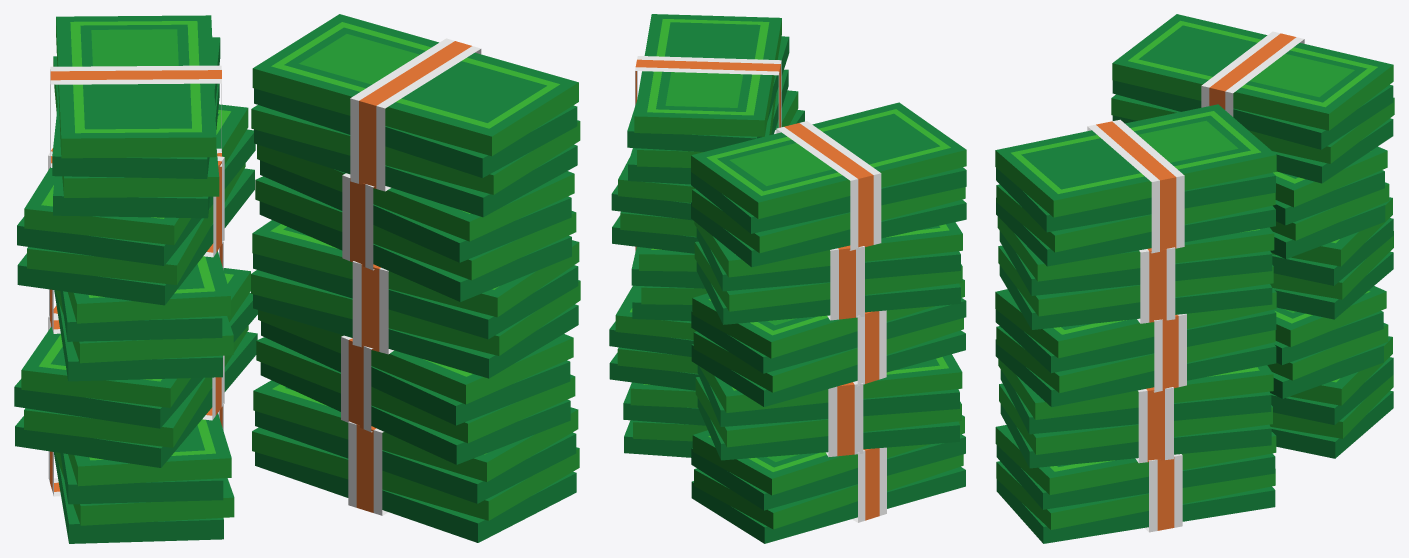
The model's file is money.fbx.
3 renders of one model, left to right at view 1: azimuth 30°, elevation 25°; view 2: azimuth 150°, elevation 25°; view 3: azimuth 270°, elevation 25°, orthographic. The views are drawn at different scales.
Parts seen in each view (by area): view 1: Cash.009; view 2: Cash.009; view 3: Cash.009.
Part boxes in pixels (box(x1,y1,x2,y2)): Cash.009: box(14, 14, 580, 543); Cash.009: box(609, 14, 966, 543); Cash.009: box(995, 14, 1394, 543).
Bounding box in the file's own units: 78.42 × 64.95 × 67.15.
